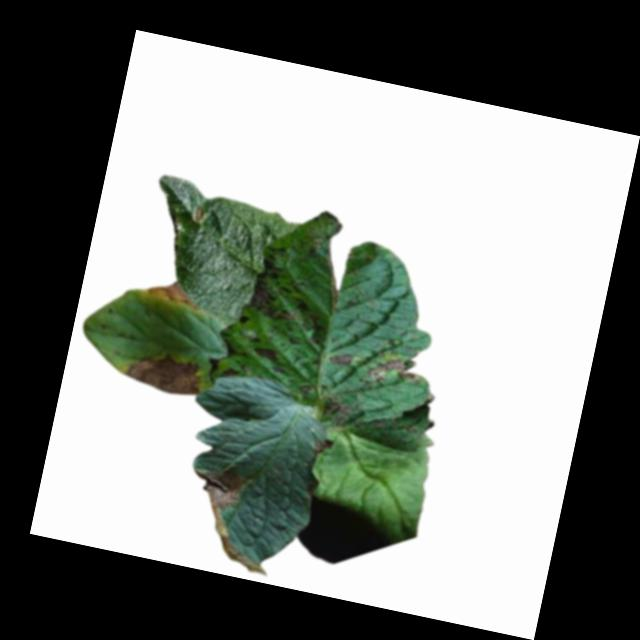Early_blight: (183, 463, 289, 579), (246, 244, 320, 328), (125, 344, 207, 397), (364, 347, 422, 393), (145, 274, 204, 311), (318, 389, 354, 428), (205, 354, 241, 388), (309, 434, 334, 455), (253, 344, 280, 362), (328, 350, 352, 367), (189, 205, 207, 225), (235, 312, 250, 326)
